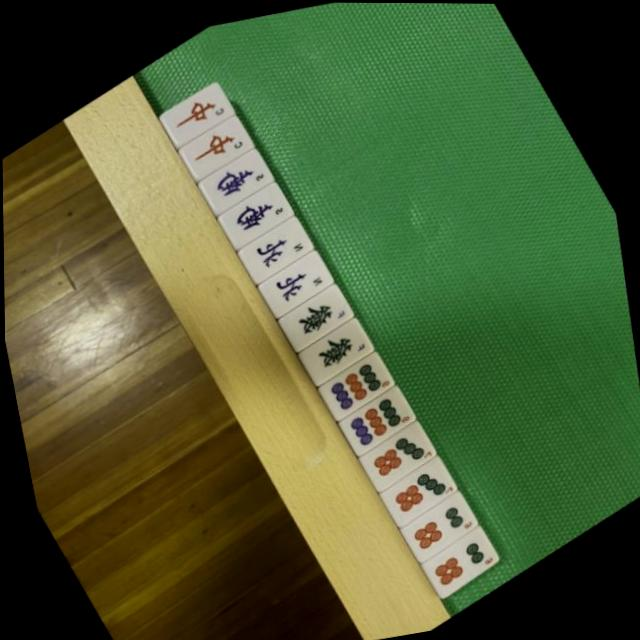hdg: (273, 277, 360, 350), (294, 310, 380, 383)
hdr: (172, 108, 259, 182), (153, 75, 238, 146)
hwn: (252, 242, 339, 316), (232, 210, 319, 282)
hws: (211, 175, 300, 250), (193, 141, 279, 213)
sd6: (419, 520, 509, 595), (399, 484, 488, 559)
sd7: (353, 413, 446, 491), (376, 448, 466, 525)
sd9: (332, 377, 425, 455), (312, 343, 403, 420)
